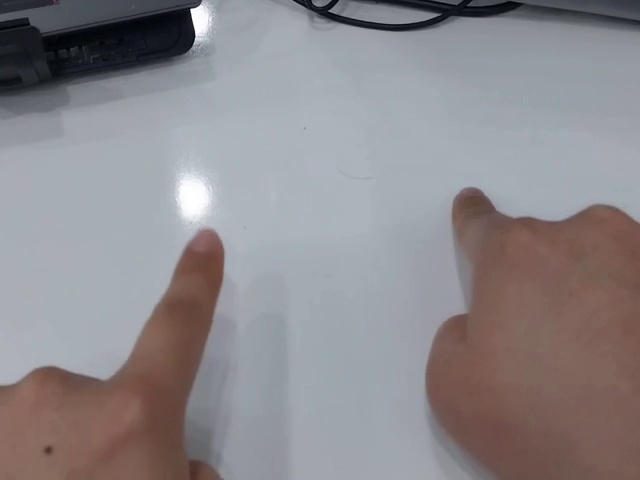fingers: (173, 226, 226, 279), (451, 185, 495, 225)
